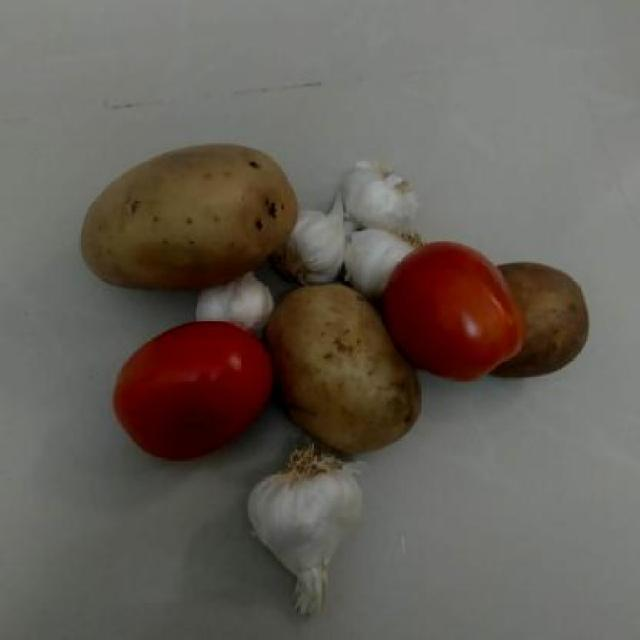Garlic: (246, 446, 366, 625), (338, 160, 417, 231)
Potato: (76, 140, 302, 288), (269, 284, 420, 453), (520, 262, 592, 380)
Tomato: (110, 322, 276, 464), (386, 240, 531, 382)
